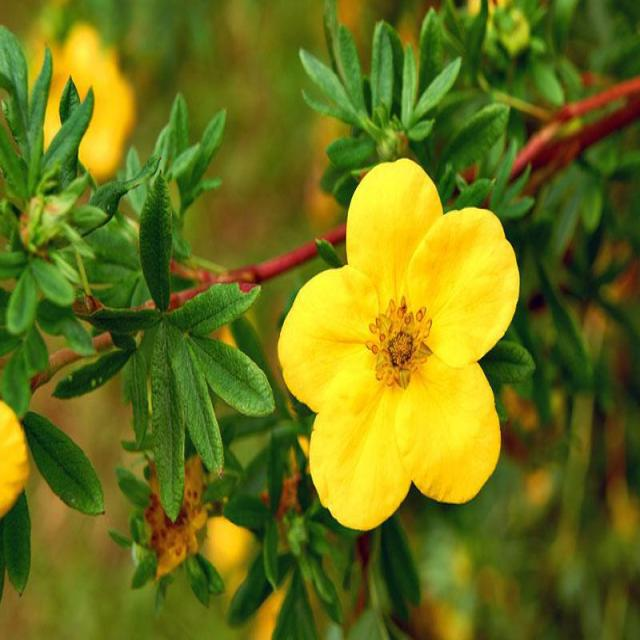other: (266, 162, 502, 516), (0, 404, 28, 540)
